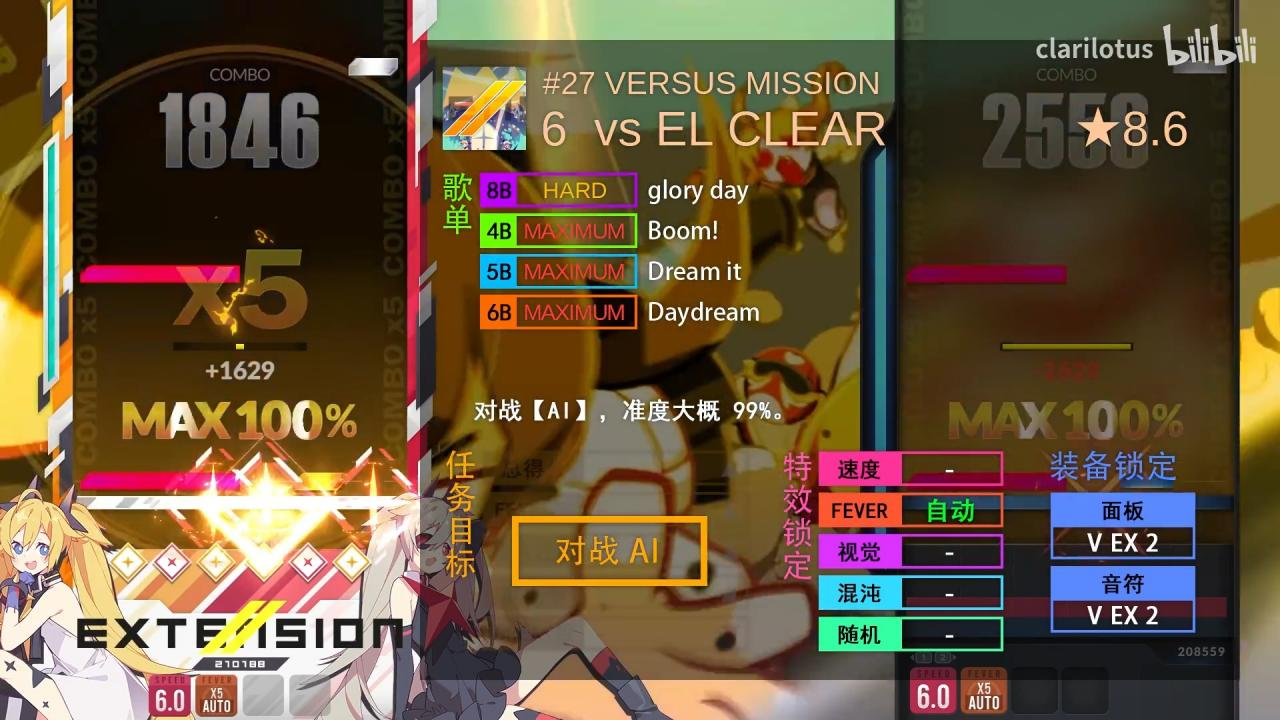note: (348, 57, 398, 76), (294, 472, 344, 491)
xnote: (80, 472, 240, 490), (81, 265, 240, 283)
